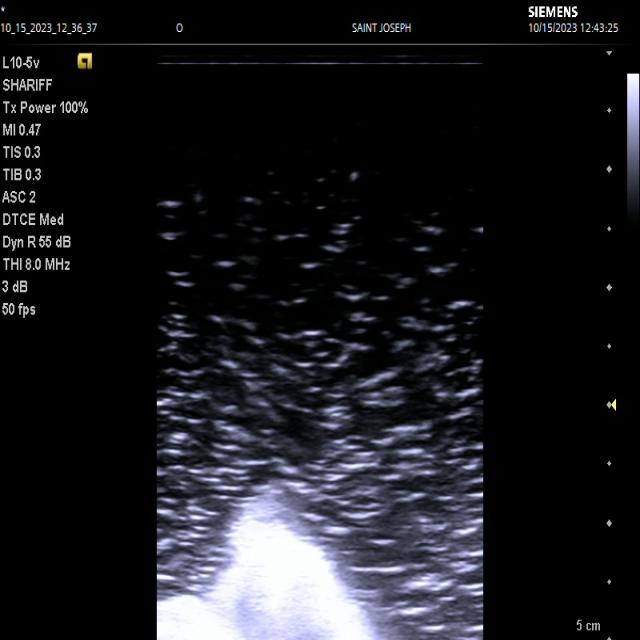tissue: (157, 491, 383, 640)
